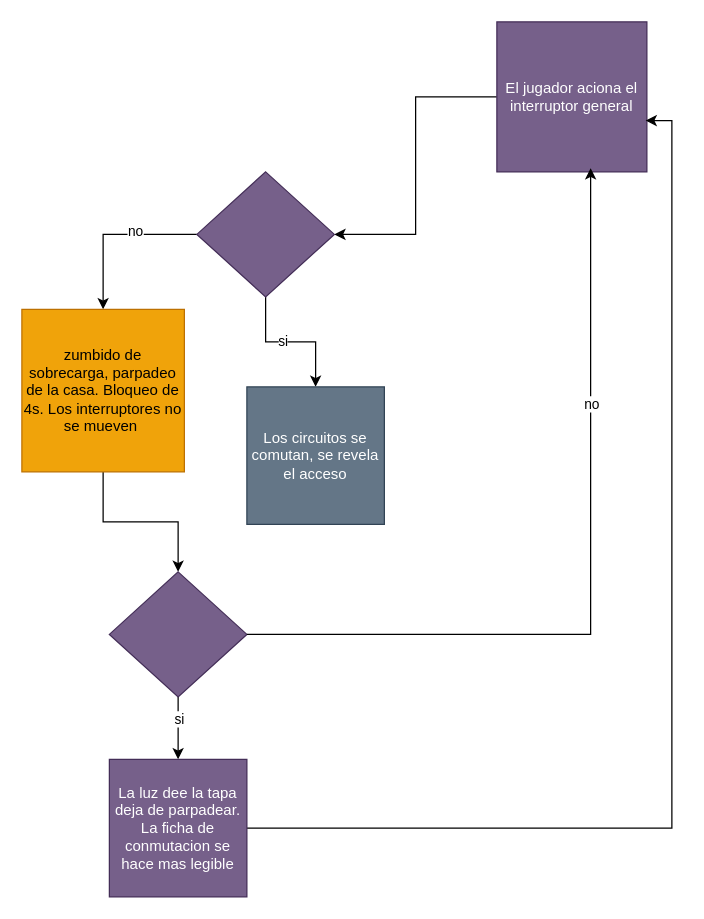
The diagram is 704 pixels wide and 919 high, and some of its shapes have lost their labels. The shapes that lost their labels are listed below. From the top down, each one's centre as x and y in pixels, then its label:
the point at 265,234: Combinacion valida?
the point at 177,634: Tercer fallo consecutivo?
